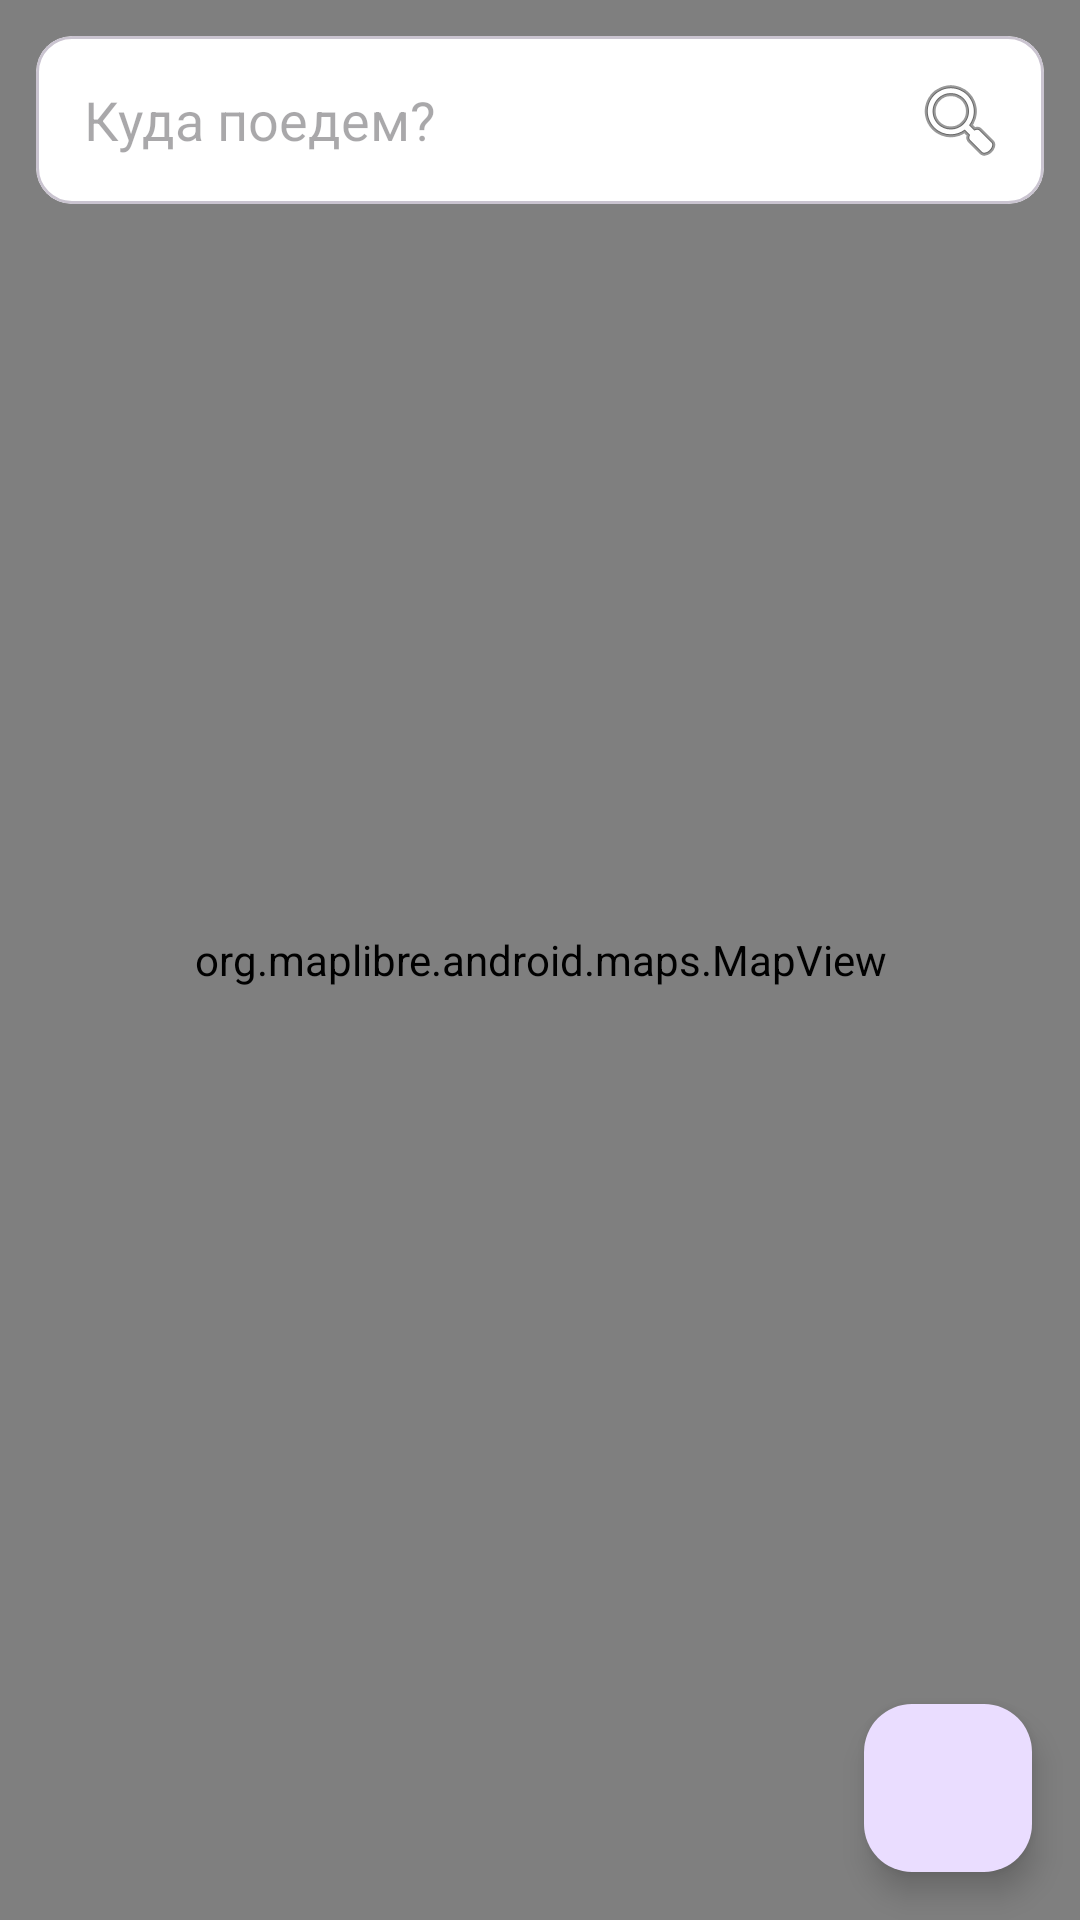

Icon bounding boxes for this 1080 x 1920 phone screenshot, format [x1, y1, x2, y2]:
Найти: [924, 85, 996, 156]
